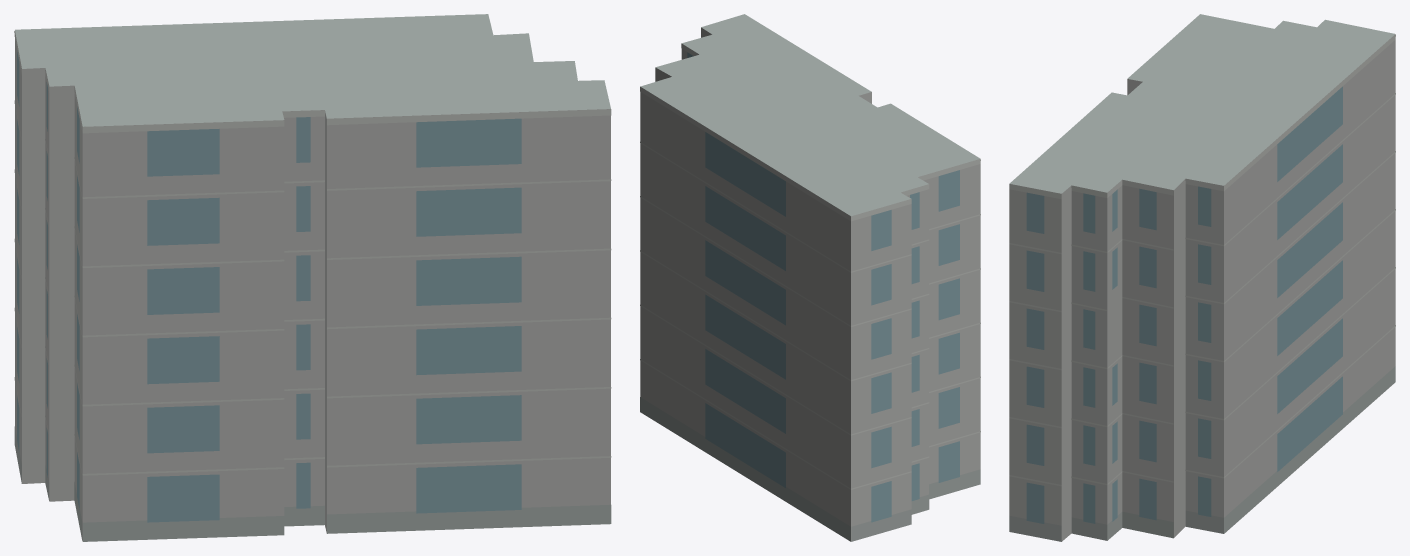
File: survey-upis-32768985.glb
The picture shows the model from 3 angles, left to right: view 1: azimuth 30°, elevation 25°; view 2: azimuth 150°, elevation 25°; view 3: azimuth 270°, elevation 25°; orthographic projection. The views are drawn at different scales.
Visible parts, largest first — view 1: survey-upis-32768985.tmp; view 2: survey-upis-32768985.tmp; view 3: survey-upis-32768985.tmp.
Part boxes in pixels (<box>): survey-upis-32768985.tmp: <box>14,14,611,541</box>; survey-upis-32768985.tmp: <box>640,14,980,541</box>; survey-upis-32768985.tmp: <box>1009,14,1395,541</box>.
Bounding box in the file's own units: 17.19 × 15.5 × 15.62.
